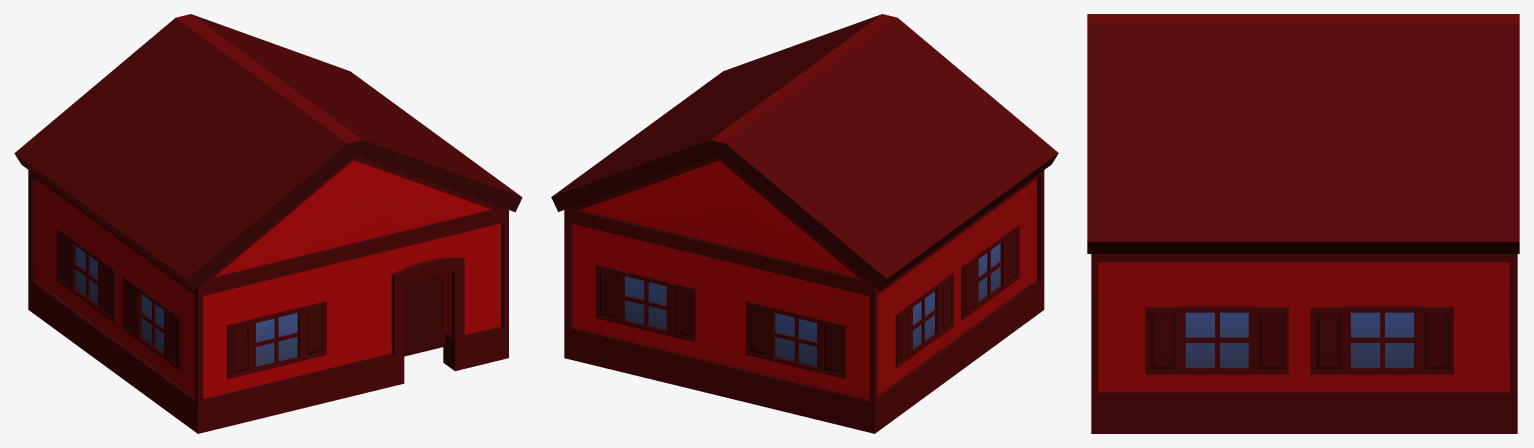
The model's file is buildings-residential-oldcottage_v2.fbx.
3 renders of one model, left to right at view 1: azimuth 30°, elevation 25°; view 2: azimuth 150°, elevation 25°; view 3: azimuth 270°, elevation 25°, orthographic. The views are drawn at different scales.
Visible parts, largest first — view 1: OldCottage_v2_base, OldCottage_v2_windowRefl; view 2: OldCottage_v2_base, OldCottage_v2_windowRefl; view 3: OldCottage_v2_base, OldCottage_v2_windowRefl.
Part boxes in pixels (box(x1,y1,x2,y2)): OldCottage_v2_base: box(14, 14, 522, 433); OldCottage_v2_windowRefl: box(76, 246, 297, 366); OldCottage_v2_base: box(551, 14, 1058, 433); OldCottage_v2_windowRefl: box(625, 243, 1000, 366); OldCottage_v2_base: box(1087, 14, 1519, 433); OldCottage_v2_windowRefl: box(1185, 312, 1413, 367).
Size of the model in its own units: 9.71 by 7.05 by 8.63.
